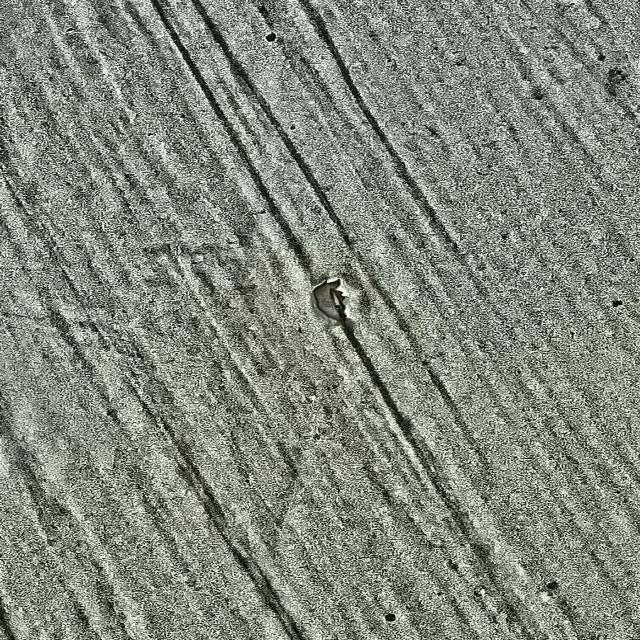crack: (313, 275, 361, 325)
